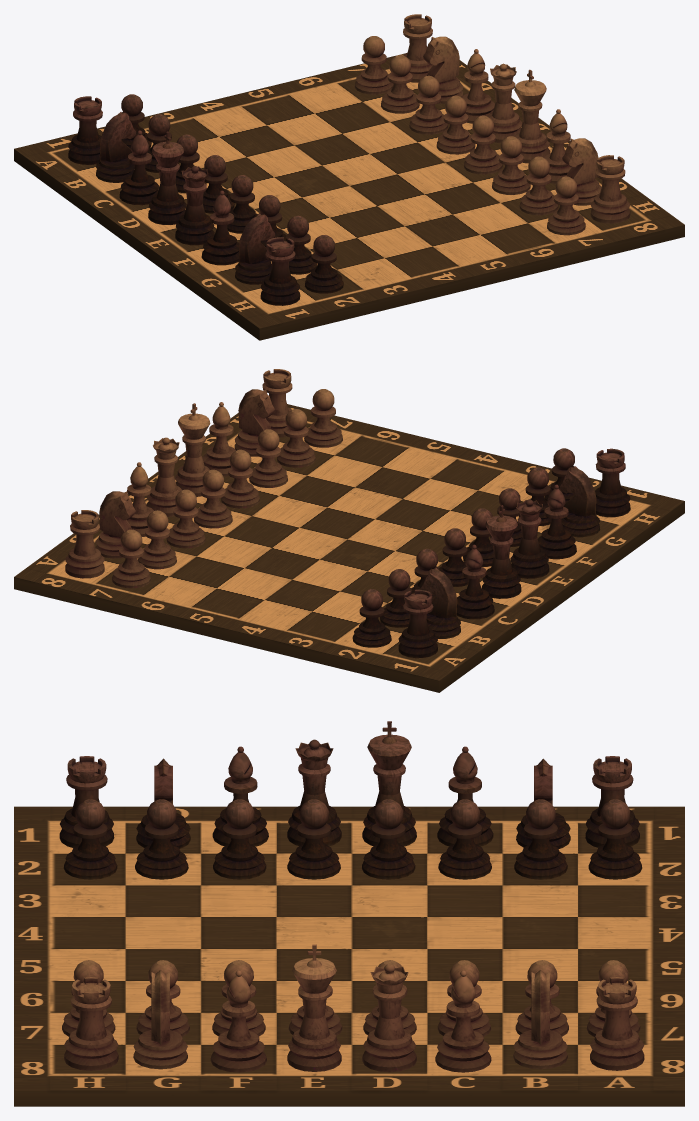
Rendered from chess_set.glb.
3 views of the same model, one above another, from view 1: azimuth 30°, elevation 25°; view 2: azimuth 150°, elevation 25°; view 3: azimuth 270°, elevation 25° (orthographic). The views are drawn at different scales.
Visible parts, largest first — view 1: Chess Board_2, King_Dark_7, Knight_2_Dark_8, Queen_Dark_6, King_Light_23, Tower_Dark_10, Tower_2_Light_21, Knight_Dark_9, Tower_2_Dark_5, Knight_2_Light_24, Knight_Light_25, Queen_Light_22 (+21 smaller); view 2: Chess Board_2, King_Dark_7, Knight_Dark_9, Queen_Dark_6, Tower_2_Dark_5, Tower_Light_26, King_Light_23, Tower_Dark_10, Knight_2_Dark_8, Knight_Light_25, Knight_2_Light_24, Queen_Light_22 (+21 smaller); view 3: Chess Board_2, King_Light_23, Queen_Light_22, Tower_2_Light_21, Tower_Light_26, Bishop_Light_20, Bishop_2_Light_27, King_Dark_7, Knight_2_Light_24, Knight_Light_25, Pawn_5_Dark_14, Pawn_8_Dark_17 (+21 smaller).
Boxes of the visible parts, left/top/right/bottom form: Chess Board_2: left=14, top=53, right=684, bottom=340; King_Dark_7: left=148, top=131, right=186, bottom=224; Knight_2_Dark_8: left=96, top=112, right=136, bottom=182; Queen_Dark_6: left=175, top=166, right=214, bottom=245; King_Light_23: left=514, top=69, right=550, bottom=163; Tower_Dark_10: left=260, top=237, right=300, bottom=305; Tower_2_Light_21: left=590, top=155, right=630, bottom=223; Knight_Dark_9: left=235, top=213, right=275, bottom=284; Tower_2_Dark_5: left=68, top=96, right=102, bottom=164; Knight_2_Light_24: left=562, top=138, right=601, bottom=205; Knight_Light_25: left=423, top=36, right=463, bottom=103; Queen_Light_22: left=487, top=63, right=522, bottom=142; Chess Board_2: left=14, top=404, right=684, bottom=692; King_Dark_7: left=482, top=505, right=521, bottom=598; Knight_Dark_9: left=560, top=466, right=600, bottom=537; Queen_Dark_6: left=510, top=499, right=549, bottom=578; Tower_2_Dark_5: left=398, top=589, right=437, bottom=658; Tower_Light_26: left=65, top=510, right=104, bottom=578; King_Light_23: left=175, top=403, right=210, bottom=496; Tower_Dark_10: left=595, top=448, right=630, bottom=517; Knight_2_Dark_8: left=420, top=568, right=460, bottom=638; Knight_Light_25: left=95, top=491, right=135, bottom=558; Knight_2_Light_24: left=234, top=389, right=274, bottom=456; Queen_Light_22: left=146, top=437, right=181, bottom=516; Chess Board_2: left=14, top=806, right=684, bottom=1106; King_Light_23: left=287, top=944, right=341, bottom=1071; Queen_Light_22: left=362, top=963, right=416, bottom=1072; Tower_2_Light_21: left=64, top=977, right=118, bottom=1070; Tower_Light_26: left=590, top=977, right=644, bottom=1070; Bishop_Light_20: left=435, top=970, right=491, bottom=1072; Bishop_2_Light_27: left=210, top=970, right=266, bottom=1072; King_Dark_7: left=362, top=721, right=416, bottom=846; Knight_2_Light_24: left=133, top=970, right=187, bottom=1069; Knight_Light_25: left=513, top=970, right=567, bottom=1069; Pawn_5_Dark_14: left=362, top=799, right=415, bottom=879; Pawn_8_Dark_17: left=588, top=799, right=642, bottom=879.
Bounding box in the file's own units: 1.14 × 0.2487 × 1.14.
3 materials, 3 textured.
